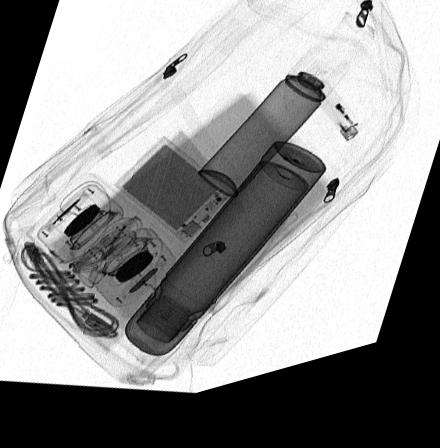Lighter: (307, 98, 364, 160)
Powerbank: (112, 144, 232, 255)
Sprayer: (198, 63, 351, 211)
